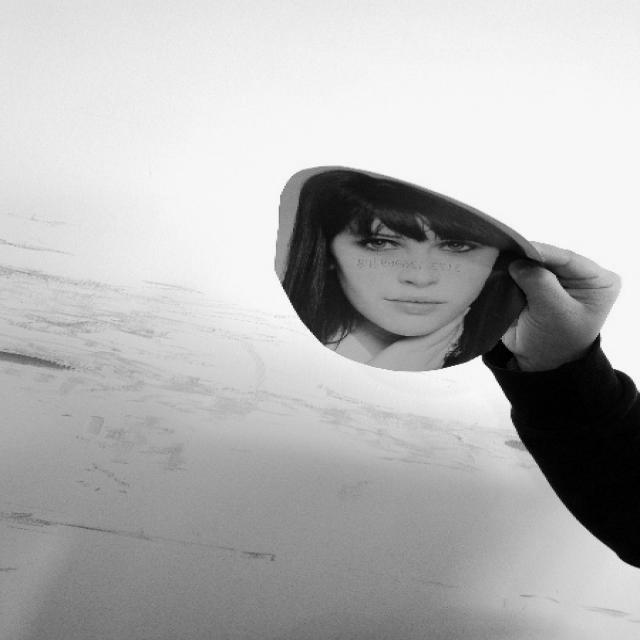fake: (258, 156, 556, 376)
